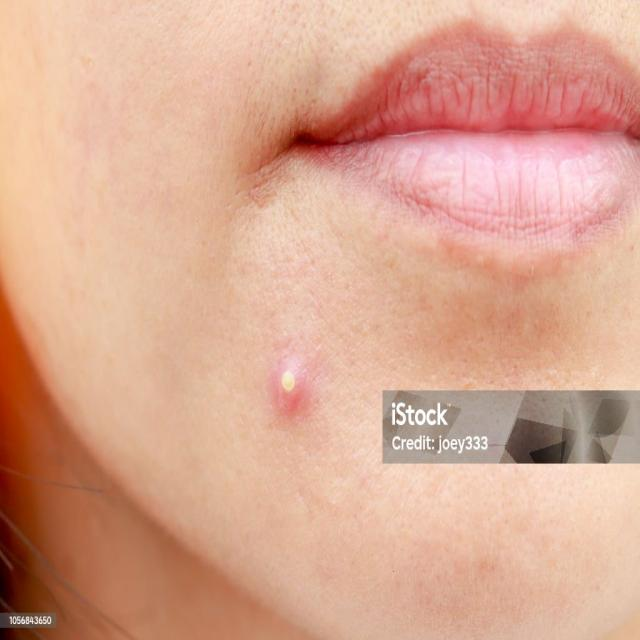pustule: (257, 324, 326, 434)
